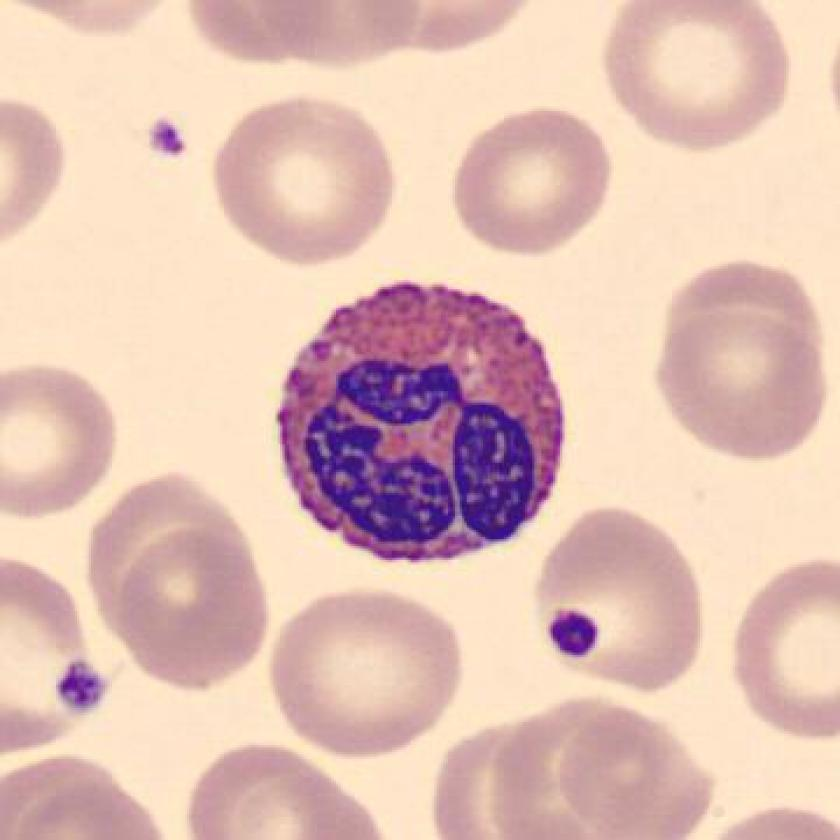eosinophil: (262, 274, 582, 575)
